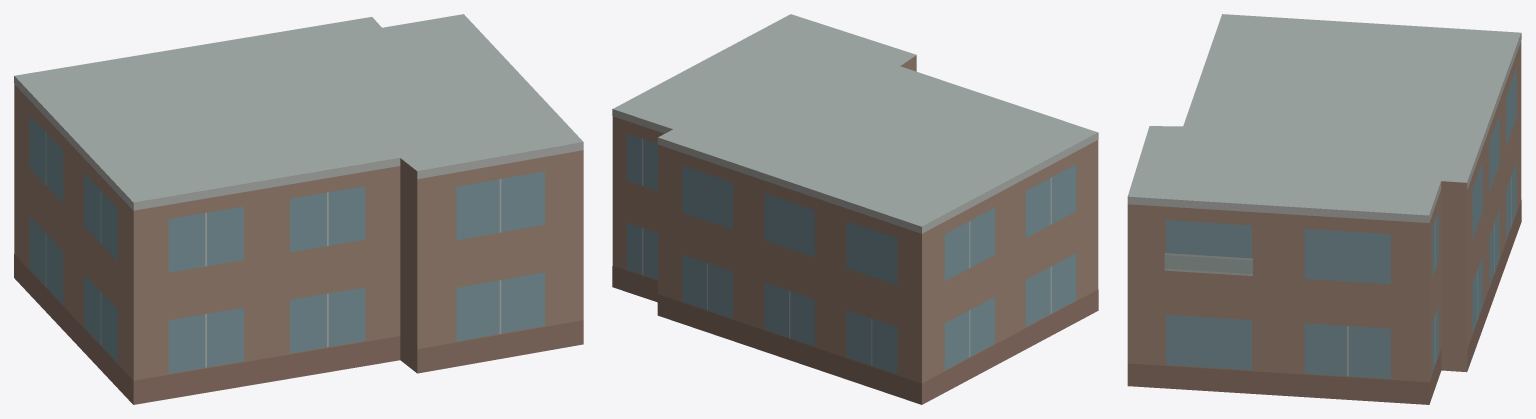
Rendered from survey-upis-32659638.glb.
3 views of the same model, side by side, from view 1: azimuth 30°, elevation 25°; view 2: azimuth 150°, elevation 25°; view 3: azimuth 270°, elevation 25° (orthographic). The views are drawn at different scales.
Visible parts, largest first — view 1: survey-upis-32659638.tmp; view 2: survey-upis-32659638.tmp; view 3: survey-upis-32659638.tmp.
Boxes of the visible parts, <box> form: survey-upis-32659638.tmp: <box>14,14,583,404</box>; survey-upis-32659638.tmp: <box>612,14,1098,404</box>; survey-upis-32659638.tmp: <box>1127,14,1521,404</box>.
Bounding box in the file's own units: 13.93 × 6.1 × 11.51.
